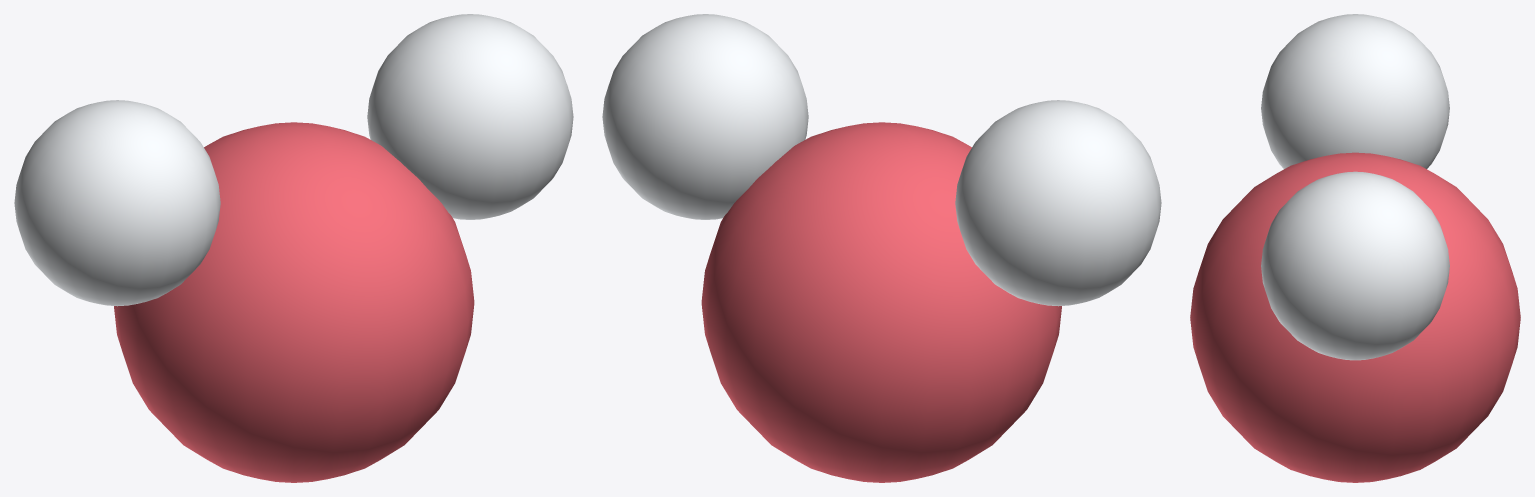
Rendered from water-molecule.glb.
3 renders of one model, left to right at view 1: azimuth 30°, elevation 25°; view 2: azimuth 150°, elevation 25°; view 3: azimuth 270°, elevation 25°, orthographic. The views are drawn at different scales.
Parts seen in each view (by area): view 1: Oxygen, Hydrogen (×2); view 2: Oxygen, Hydrogen (×2); view 3: Oxygen, Hydrogen (×2).
Part boxes in pixels (x1,y1,x2,y2): Oxygen: [114, 122, 474, 482]; Hydrogen (×2): [14, 14, 573, 306]; Oxygen: [701, 122, 1061, 482]; Hydrogen (×2): [602, 14, 1161, 306]; Oxygen: [1190, 152, 1520, 482]; Hydrogen (×2): [1261, 14, 1449, 360].
Size of the model in its own units: 2.38 by 1.71 by 1.4.
